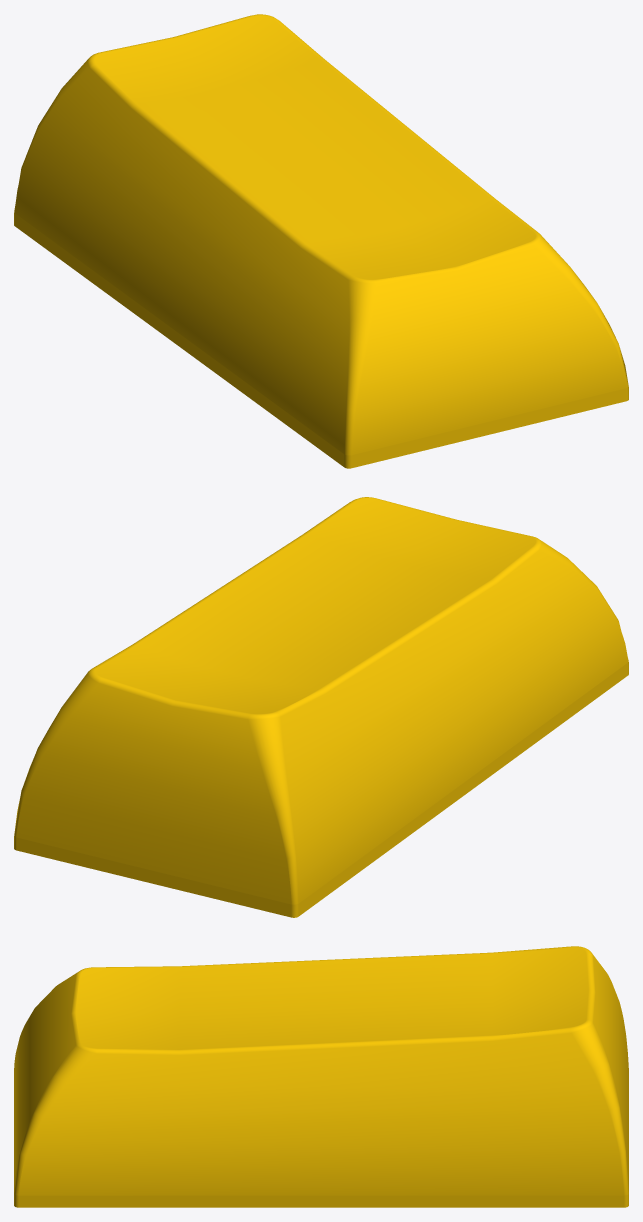
File: KAT_2u_r2_vertical.glb
The picture shows the model from 3 angles, top to bottom: view 1: azimuth 30°, elevation 25°; view 2: azimuth 150°, elevation 25°; view 3: azimuth 270°, elevation 25°; orthographic projection. The views are drawn at different scales.
Parts seen in each view (by area): view 1: Object.069; view 2: Object.069; view 3: Object.069.
Part boxes in pixels (x1,y1,x2,y2): Object.069: [14, 14, 628, 468]; Object.069: [14, 497, 628, 917]; Object.069: [14, 946, 628, 1207].
Bounding box in the file's own units: 18.2 × 10.54 × 37.2.
